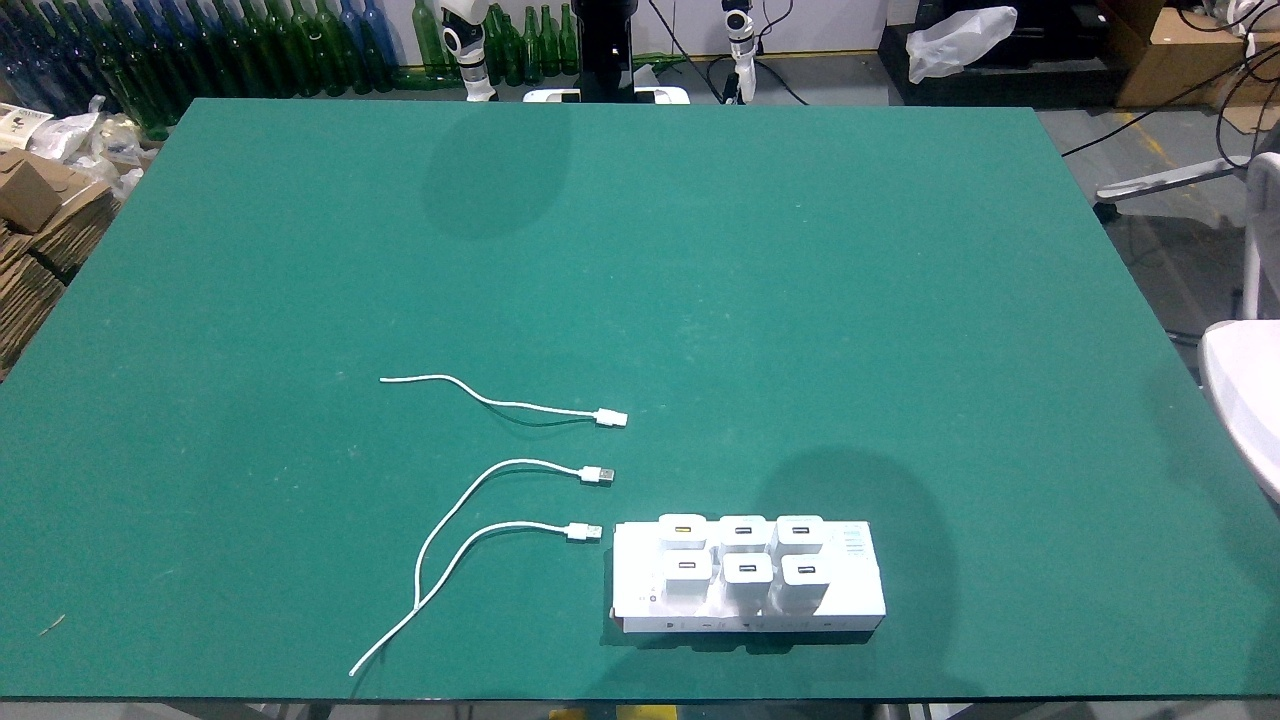usb_a_plug: (547, 461, 629, 486), (571, 404, 642, 430), (542, 519, 611, 540)
